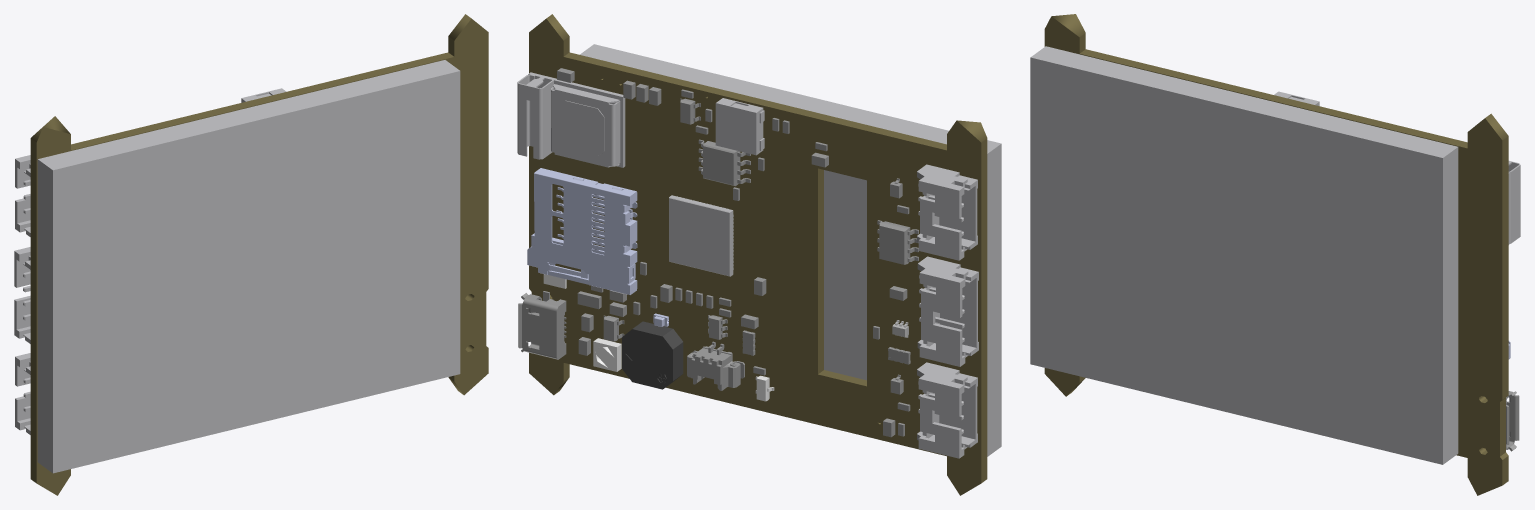
The model's file is ada-4465.glb.
3 views of the same model, side by side, from view 1: azimuth 30°, elevation 25°; view 2: azimuth 150°, elevation 25°; view 3: azimuth 330°, elevation 25° (orthographic).
Parts seen in each view (by area): view 1: 0.5833333333333334_0.5833333333333334_0.5833333333333334_0.8, 0.16666666666666666_0.16666666666666666_0.08333333333333333_; view 2: 0.16666666666666666_0.16666666666666666_0.08333333333333333_, 0.5833333333333334_0.5833333333333334_0.5833333333333334_0.8, 0.3333333333333333_0.3333333333333333_0.3333333333333333_0, 0.5833333333333334_0.6666666666666666_0.8333333333333334_0, 0.08333333333333333_0.08333333333333333_0.08333333333333333_, 0.9166666666666666_0.9166666666666666_0.9166666666666666_0.8; view 3: 0.5833333333333334_0.5833333333333334_0.5833333333333334_0.8, 0.16666666666666666_0.16666666666666666_0.08333333333333333_, 0.3333333333333333_0.3333333333333333_0.3333333333333333_0.
Boxes of the visible parts, <box> form: 0.5833333333333334_0.5833333333333334_0.5833333333333334_0.8: <box>14,60,460,473</box>; 0.16666666666666666_0.16666666666666666_0.08333333333333333_: <box>30,14,488,495</box>; 0.16666666666666666_0.16666666666666666_0.08333333333333333_: <box>529,14,987,495</box>; 0.5833333333333334_0.5833333333333334_0.5833333333333334_0.8: <box>517,44,1001,458</box>; 0.3333333333333333_0.3333333333333333_0.3333333333333333_0: <box>518,68,918,437</box>; 0.5833333333333334_0.6666666666666666_0.8333333333333334_0: <box>527,168,668,326</box>; 0.08333333333333333_0.08333333333333333_0.08333333333333333_: <box>622,321,683,389</box>; 0.9166666666666666_0.9166666666666666_0.9166666666666666_0.8: <box>543,274,774,401</box>; 0.5833333333333334_0.5833333333333334_0.5833333333333334_0.8: <box>1030,46,1520,464</box>; 0.16666666666666666_0.16666666666666666_0.08333333333333333_: <box>1044,14,1508,495</box>; 0.3333333333333333_0.3333333333333333_0.3333333333333333_0: <box>1506,391,1519,451</box>.
Bounding box in the file's own units: 6.69 × 5.32 × 1.03.
